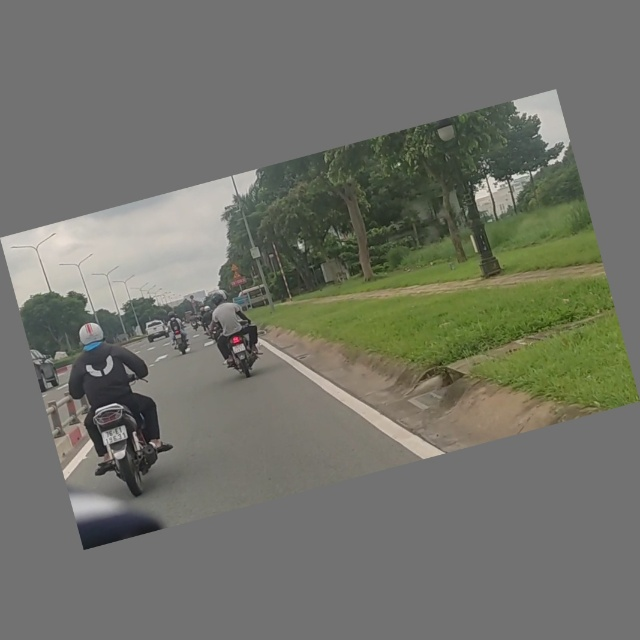P.130: (189, 295, 195, 301)
W.245a: (229, 262, 239, 272)
W.246a: (231, 270, 243, 280)
